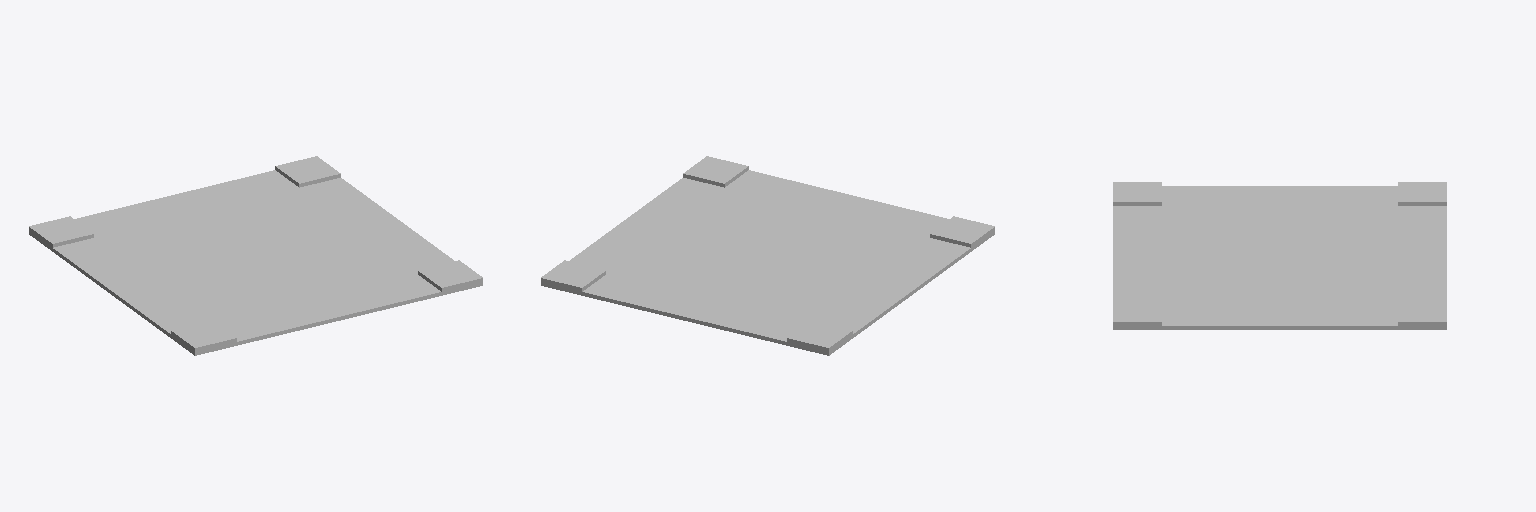
File: road4.obj
The picture shows the model from 3 angles: view 1: azimuth 30°, elevation 25°; view 2: azimuth 150°, elevation 25°; view 3: azimuth 270°, elevation 25°; orthographic projection.
Parts seen in each view (by area): view 1: road4_Plane.001; view 2: road4_Plane.001; view 3: road4_Plane.001.
Boxes of the visible parts, box(x1,y1,x2,y2) form: road4_Plane.001: box(29, 156, 482, 355); road4_Plane.001: box(541, 156, 994, 355); road4_Plane.001: box(1113, 182, 1446, 329).
Bounding box in the file's own units: 9.73 × 0.25 × 9.73.